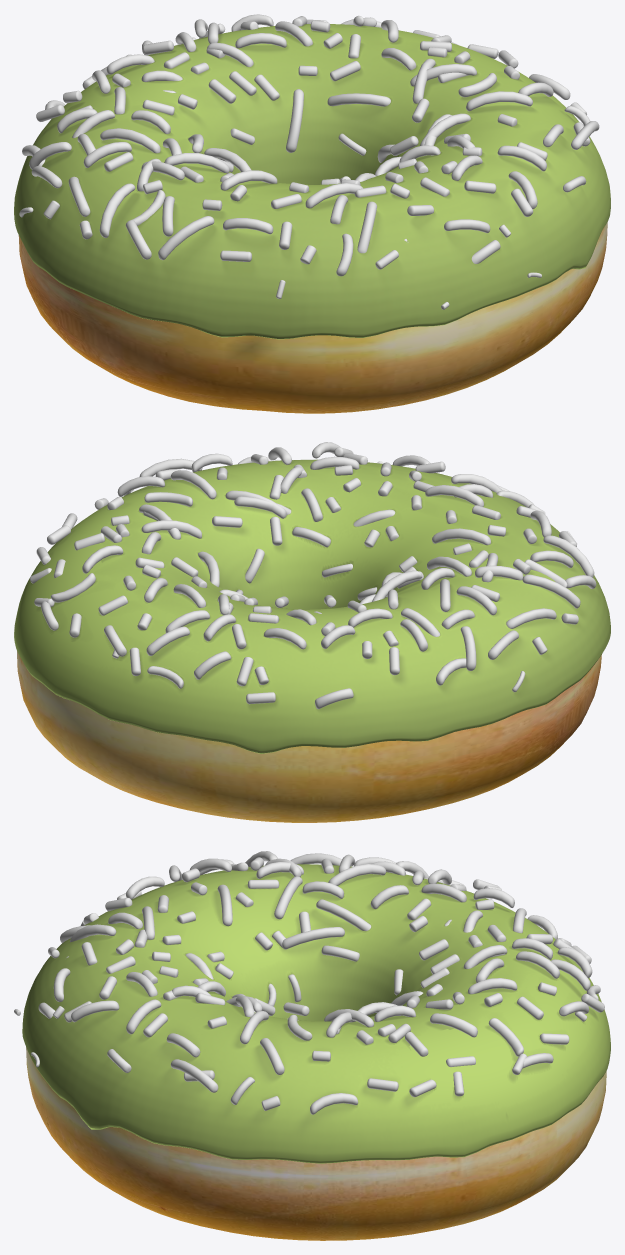
The model's file is pistachio white vermicheli.glb.
The picture shows the model from 3 angles, top to bottom: view 1: azimuth 30°, elevation 25°; view 2: azimuth 150°, elevation 25°; view 3: azimuth 270°, elevation 25°; orthographic projection. The views are drawn at different scales.
Parts seen in each view (by area): view 1: coffee.001, pustachio, blue.002, Torus; view 2: pustachio, coffee.001, blue.002, Torus; view 3: pustachio, coffee.001, Torus, blue.002.
Part boxes in pixels (bbox=[...]): coffee.001: bbox=[14, 24, 610, 338]; pustachio: bbox=[14, 24, 610, 339]; blue.002: bbox=[19, 14, 599, 309]; Torus: bbox=[18, 222, 607, 413]; pustachio: bbox=[14, 460, 606, 753]; coffee.001: bbox=[14, 459, 610, 753]; blue.002: bbox=[30, 442, 596, 709]; Torus: bbox=[17, 651, 601, 822]; pustachio: bbox=[23, 864, 610, 1163]; coffee.001: bbox=[22, 864, 610, 1163]; Torus: bbox=[26, 1047, 606, 1240]; blue.002: bbox=[14, 851, 604, 1114].
Bounding box in the file's own units: 0.1989 × 0.0773 × 0.2.
4 materials, 2 textured.
